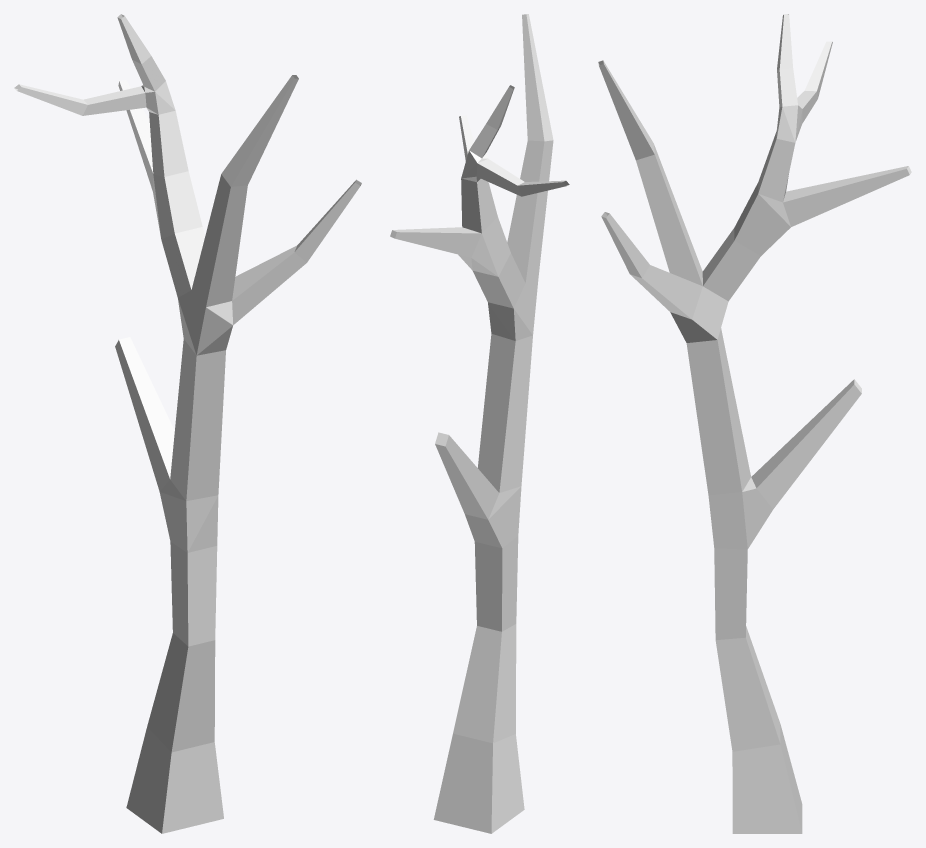
File: PrairieTreeDead.fbx
The picture shows the model from 3 angles, left to right: view 1: azimuth 30°, elevation 25°; view 2: azimuth 150°, elevation 25°; view 3: azimuth 270°, elevation 25°; orthographic projection. The views are drawn at different scales.
Parts seen in each view (by area): view 1: PrairieTreeDead; view 2: PrairieTreeDead; view 3: PrairieTreeDead.
Part boxes in pixels (x1=…): PrairieTreeDead: x1=14, y1=14, x2=361, y2=833; PrairieTreeDead: x1=390, y1=14, x2=569, y2=833; PrairieTreeDead: x1=598, y1=14, x2=911, y2=833.
Size of the model in its own units: 2.44 by 8.03 by 2.91.
